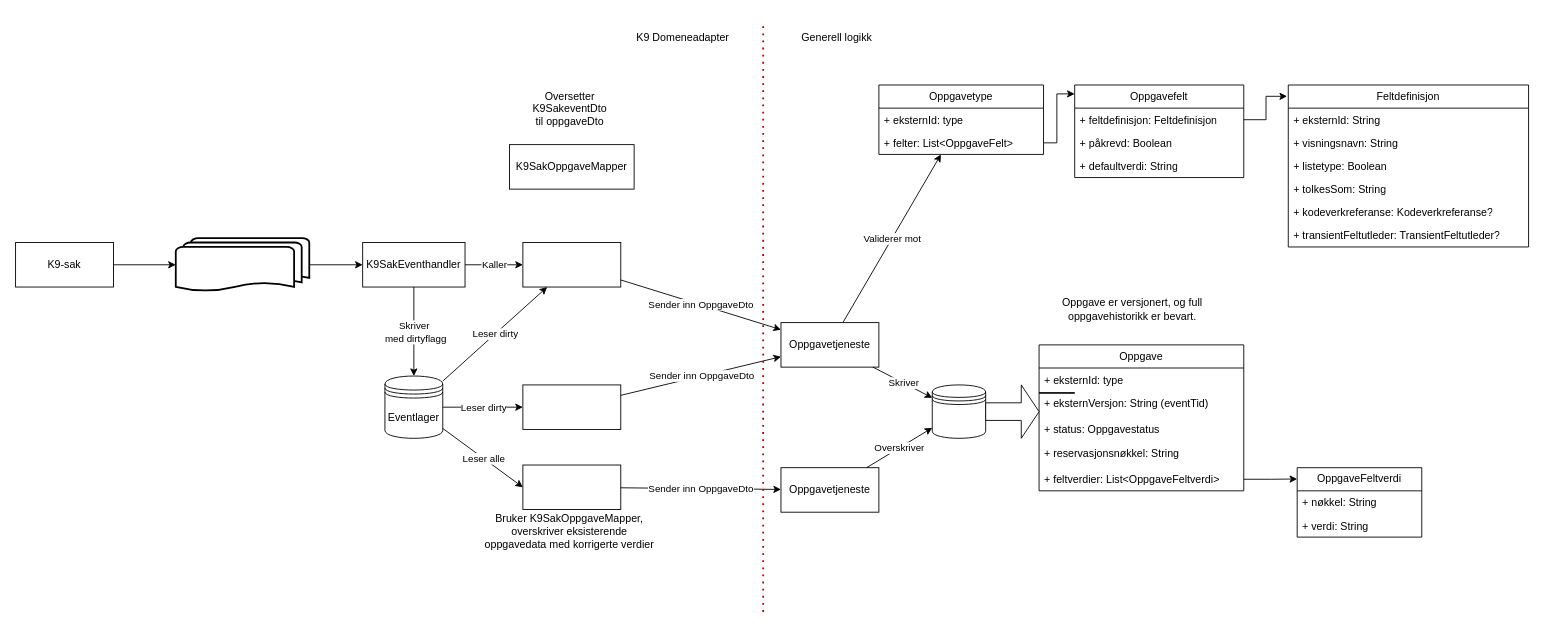
The diagram is 1544 pixels wide and 628 high, and some of its shapes have lost their labels. The centre of each missing label's shape, as x and y in pixels:
"Historikkvask" belongs at [571,487].
"Oppgave-modell" belongs at [958,411].
"Oppgaveadapter" belongs at [571,264].
"Oppgavehendelser" belongs at [242,264].
"Vaktmester" belongs at [571,406].
